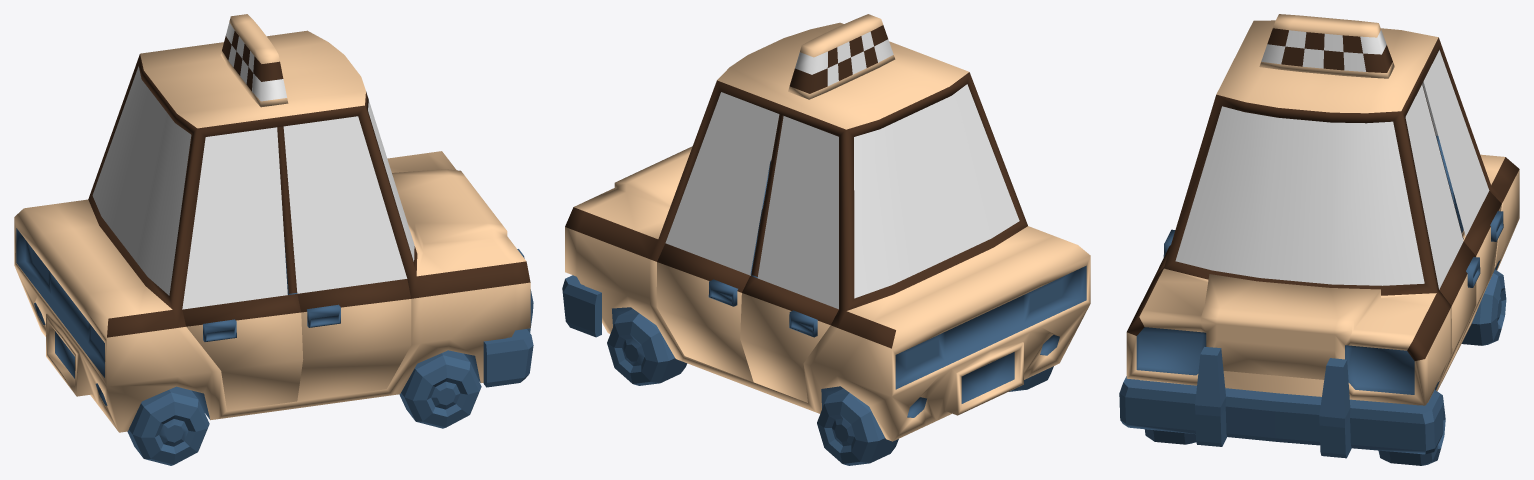
File: ToyObject_154.fbx
The picture shows the model from 3 angles, left to right: view 1: azimuth 30°, elevation 25°; view 2: azimuth 150°, elevation 25°; view 3: azimuth 270°, elevation 25°; orthographic projection. The views are drawn at different scales.
Parts seen in each view (by area): view 1: object-1.060; view 2: object-1.060; view 3: object-1.060.
Boxes of the visible parts, bbox=[...] form: object-1.060: bbox=[14, 14, 533, 465]; object-1.060: bbox=[562, 14, 1090, 465]; object-1.060: bbox=[1119, 14, 1519, 465].
Bounding box in the file's own units: 0.1705 × 0.1329 × 0.1318.
